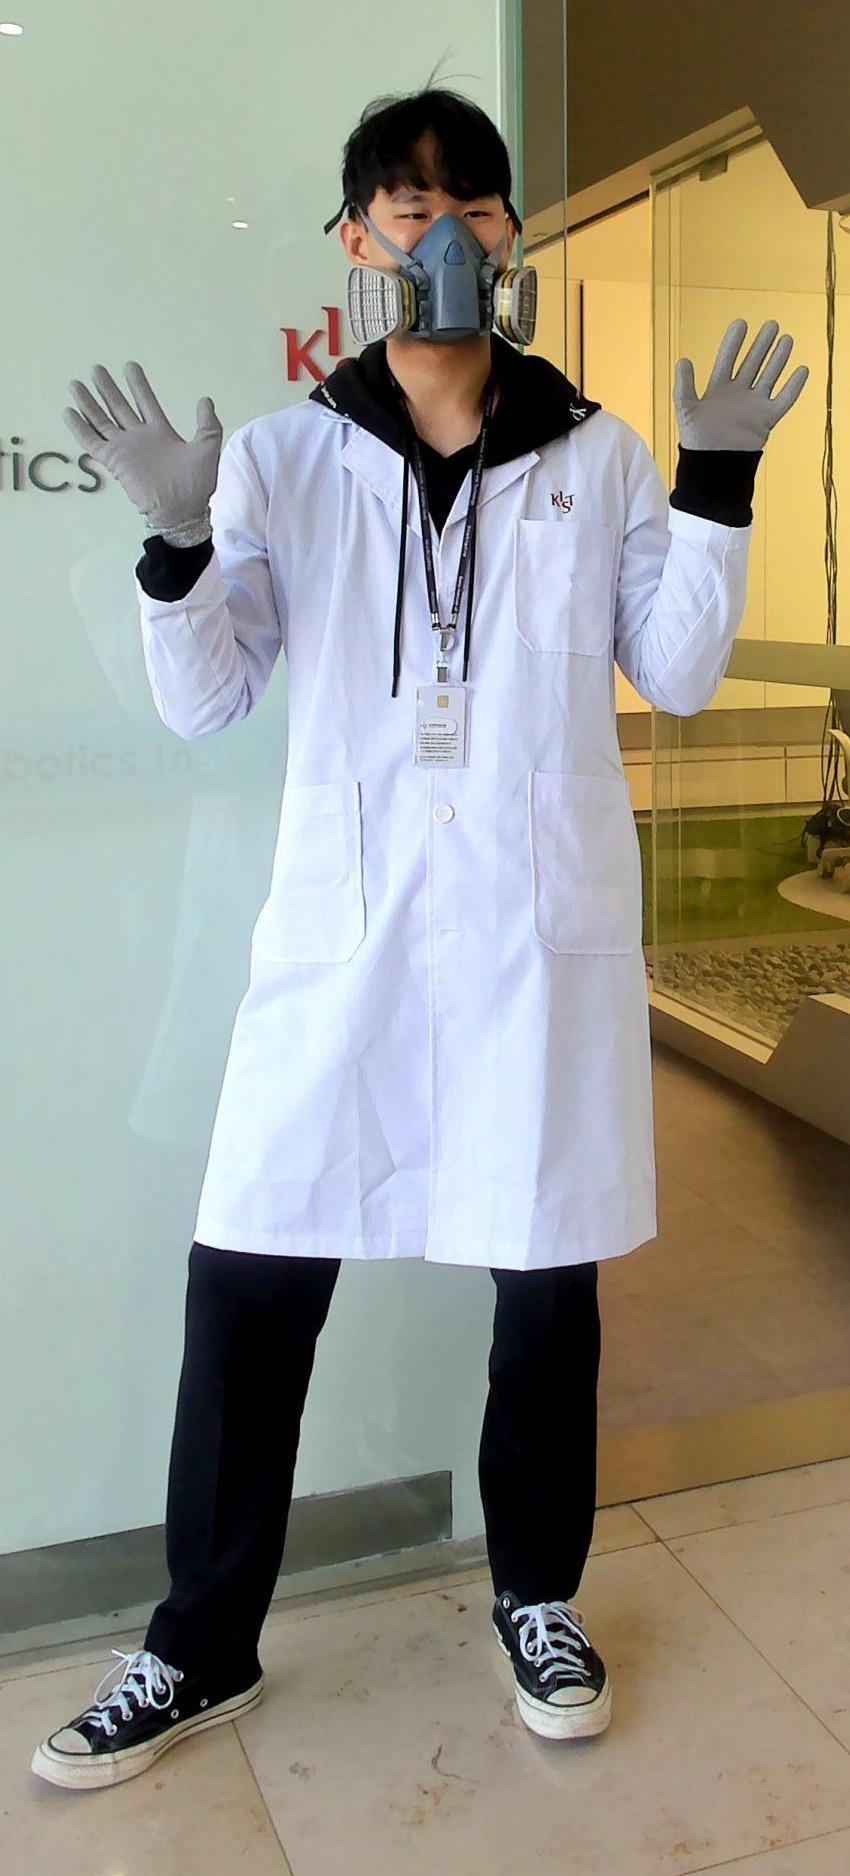lab_coat: (247, 397, 650, 1251)
